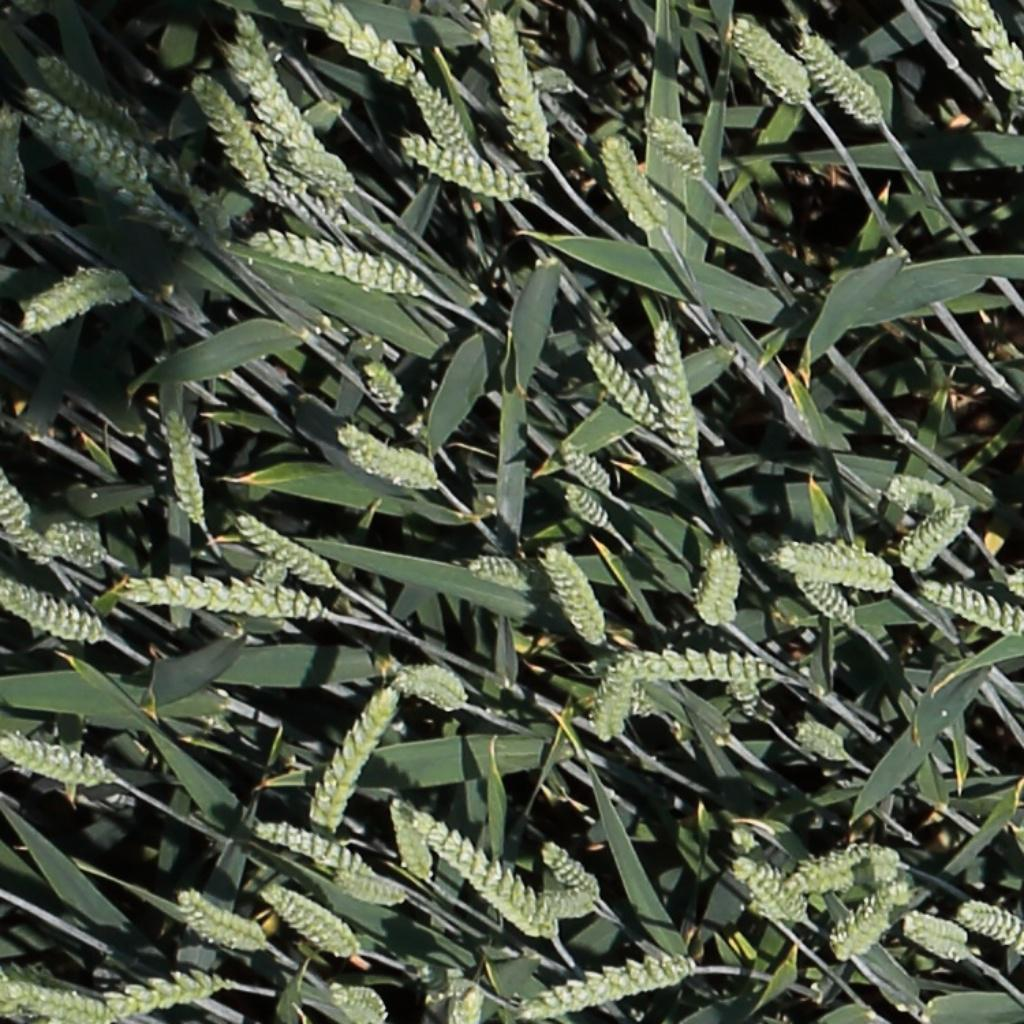0-0: (213, 12, 363, 201), (31, 119, 213, 253), (418, 811, 570, 944), (304, 678, 400, 836), (115, 559, 334, 626), (247, 221, 432, 300), (502, 952, 704, 1022), (189, 76, 292, 210), (274, 0, 413, 91), (27, 87, 152, 178), (715, 12, 818, 110), (401, 134, 532, 206), (795, 27, 886, 129), (940, 3, 1024, 113), (235, 510, 339, 590), (256, 886, 367, 959), (497, 9, 553, 153), (598, 131, 670, 240), (580, 339, 663, 431), (651, 312, 699, 469), (769, 538, 897, 596), (20, 267, 138, 329), (176, 886, 280, 956), (829, 871, 911, 959), (539, 542, 606, 649), (46, 80, 161, 142), (781, 837, 907, 893), (255, 823, 383, 878), (607, 649, 793, 686), (337, 427, 441, 492), (402, 65, 472, 159), (0, 738, 122, 791), (103, 970, 236, 1017), (1, 581, 101, 643), (110, 125, 198, 191), (728, 854, 810, 924), (159, 406, 206, 524), (925, 583, 1024, 637), (254, 113, 315, 200), (0, 462, 50, 566), (898, 503, 970, 572), (390, 795, 440, 891), (1, 984, 123, 1021), (693, 534, 742, 626), (651, 111, 709, 187), (383, 660, 460, 715), (535, 841, 600, 905), (791, 570, 856, 632), (960, 899, 1024, 957), (592, 655, 633, 745), (554, 438, 613, 499), (905, 916, 975, 965), (521, 58, 584, 106), (1, 103, 24, 228), (358, 359, 405, 420), (558, 479, 611, 533), (328, 978, 391, 1022), (43, 524, 108, 564), (330, 875, 406, 905), (887, 474, 955, 507), (718, 674, 766, 716), (796, 721, 849, 756), (465, 559, 525, 589), (542, 890, 596, 921), (247, 558, 285, 591), (450, 984, 480, 1024)
